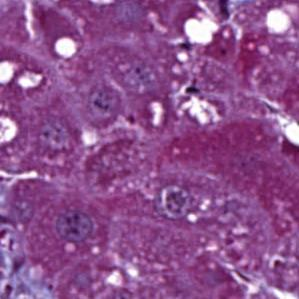inflammation: (176, 73, 208, 100), (172, 35, 195, 55)
